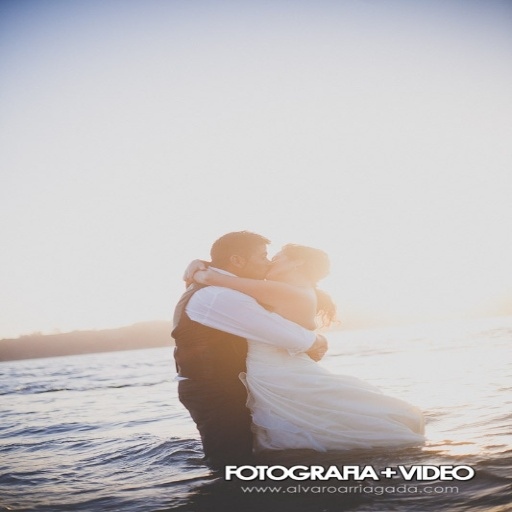hand: (307, 334, 331, 362), (179, 259, 205, 284)
